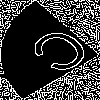C: (25, 25, 100, 84)
